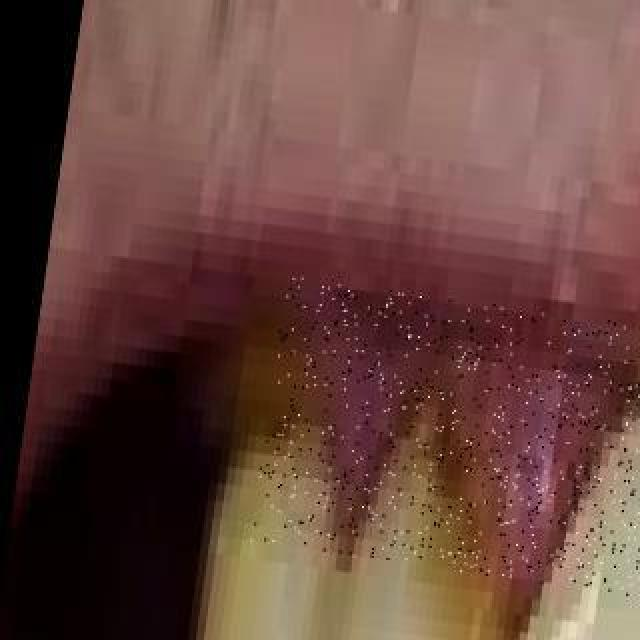maligned: (280, 444, 516, 640)
